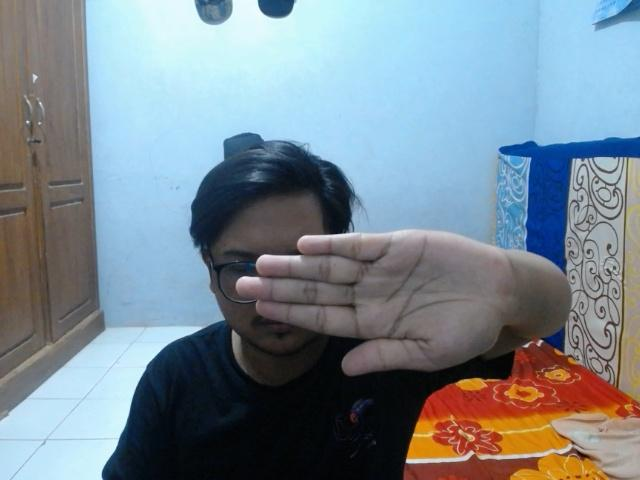Release: (230, 227, 510, 382)
